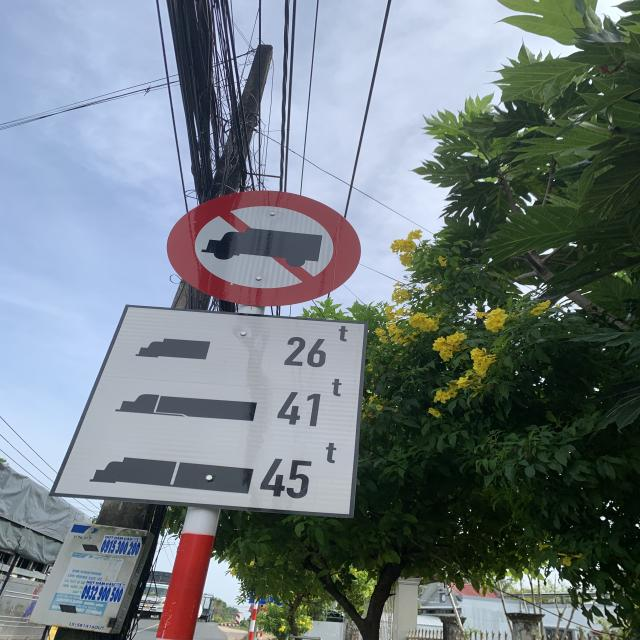Cam_Xe_Tai: (170, 190, 362, 308)
